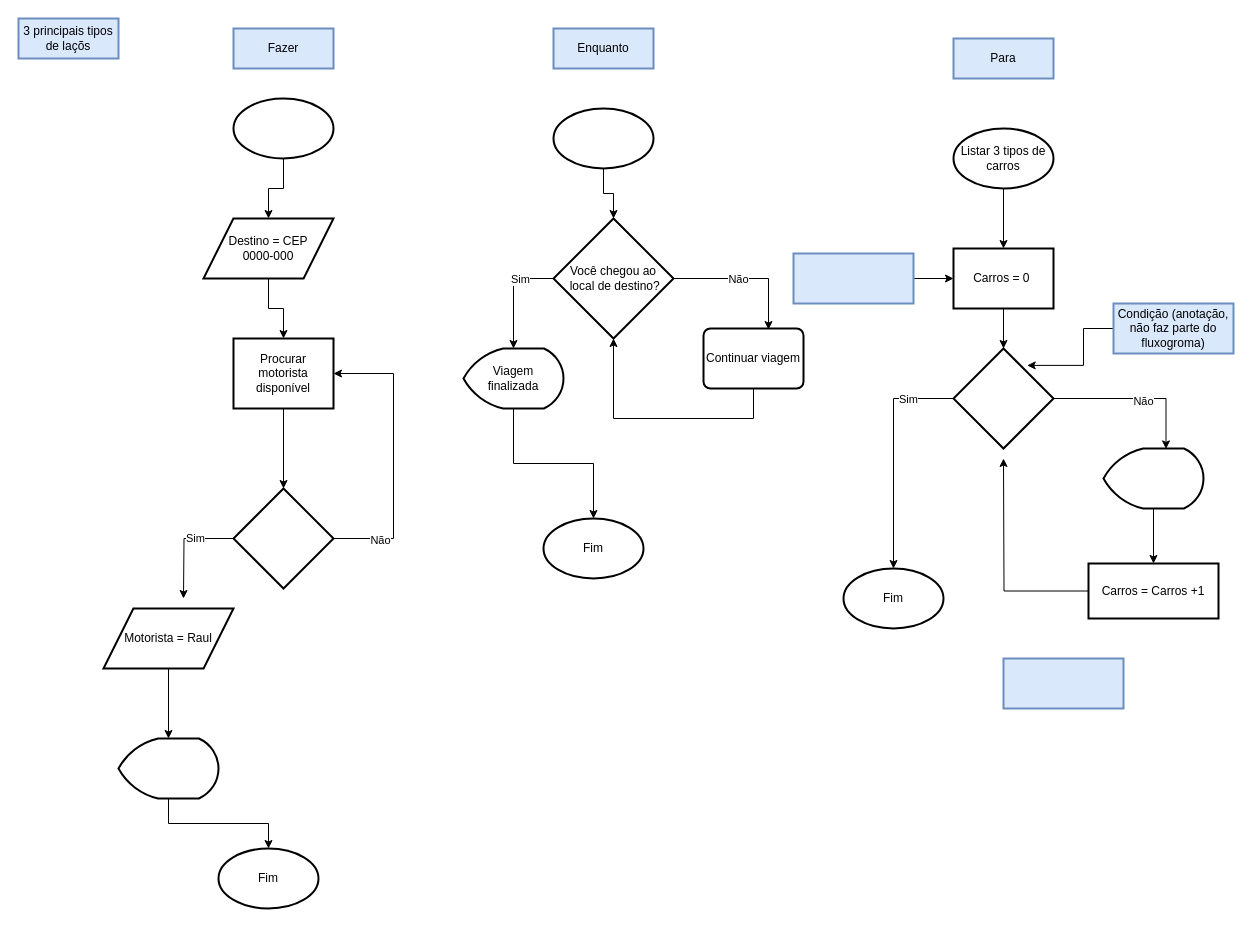
Image size: 1251x926. Some labels were removed from this diagram. The centre of each missing label's shape, as x and y in pixels:
"Acumulador (anotação, não faz parte do fluxogroma)" belongs at (x=1063, y=683).
"Carros >3" belongs at (x=1003, y=398).
"Finalizando a viagem" belongs at (x=603, y=138).
"Iniciando Viagem" belongs at (x=168, y=768).
"Mostrar carro" belongs at (x=1153, y=478).
"Motorista encontrado?" belongs at (x=283, y=538).
"Procurando motorista" belongs at (x=283, y=128).
"Valor inicial (anotação, não faz parte do fluxogroma)" belongs at (x=853, y=278).
